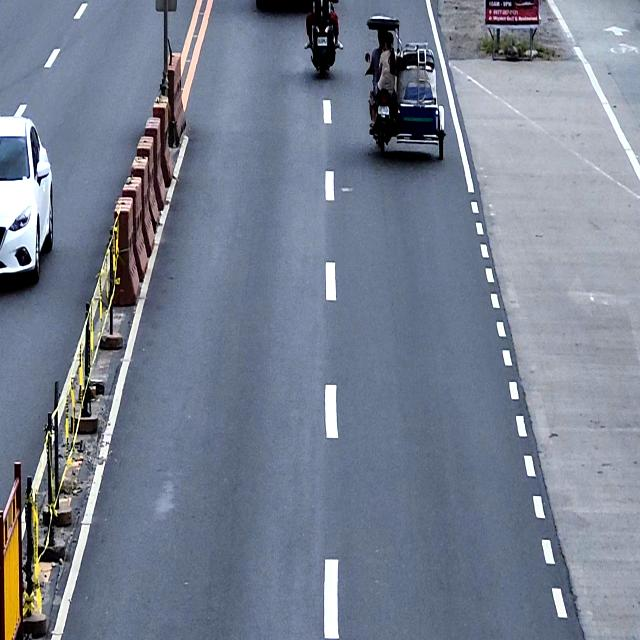Car: (0, 114, 58, 286)
License-Plate: (378, 104, 389, 116), (317, 37, 327, 48)
Motorcycle: (308, 0, 338, 76)
Tricycle: (365, 15, 447, 162)
